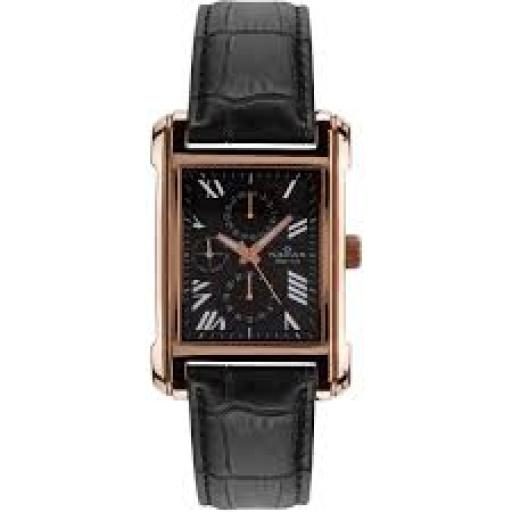KolSaati: (110, 0, 395, 512)
